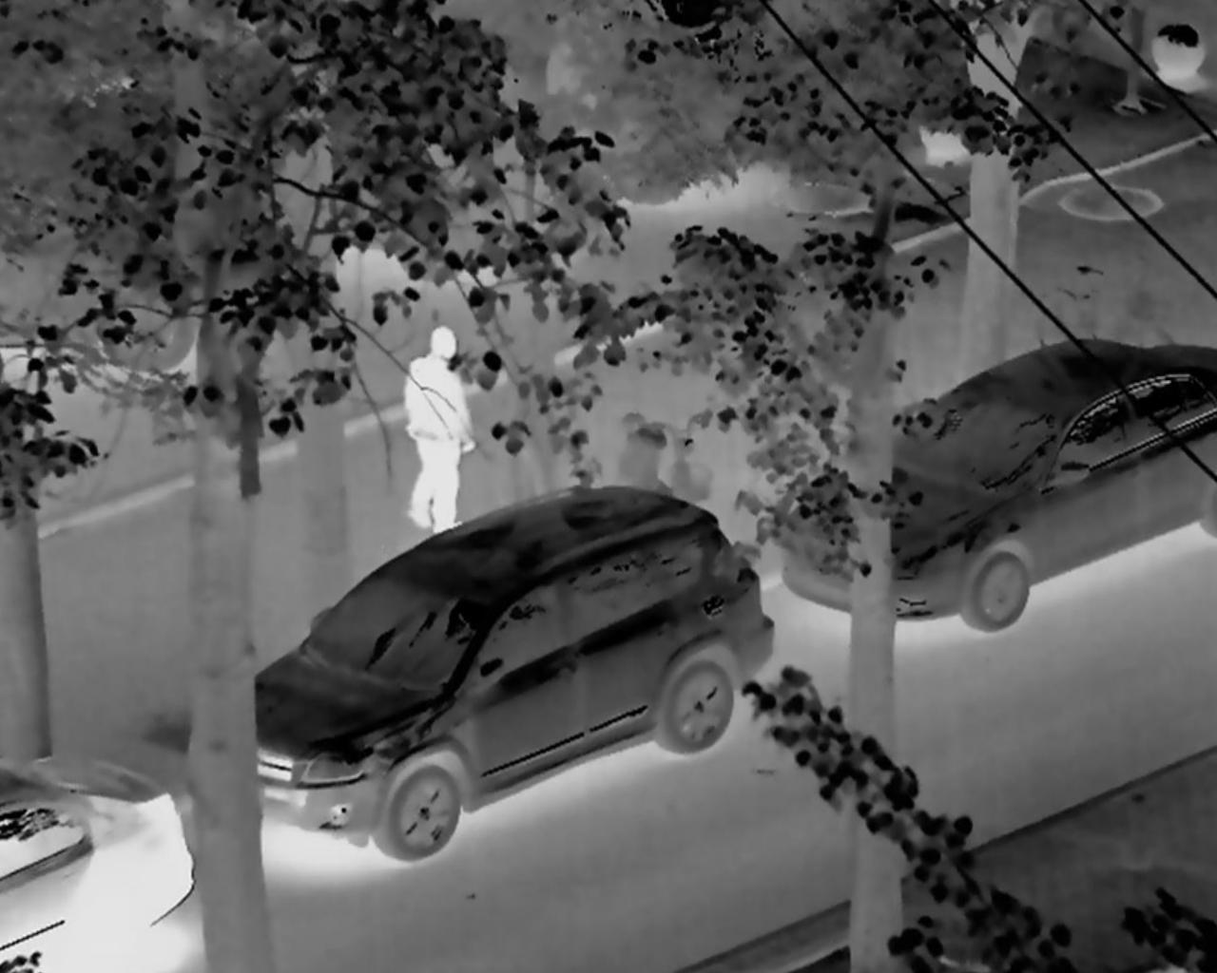person: (387, 315, 494, 544)
